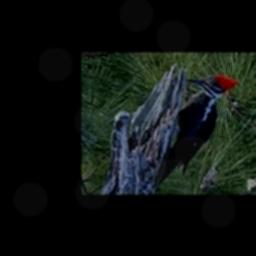Woodpecker: (156, 74, 238, 188)
